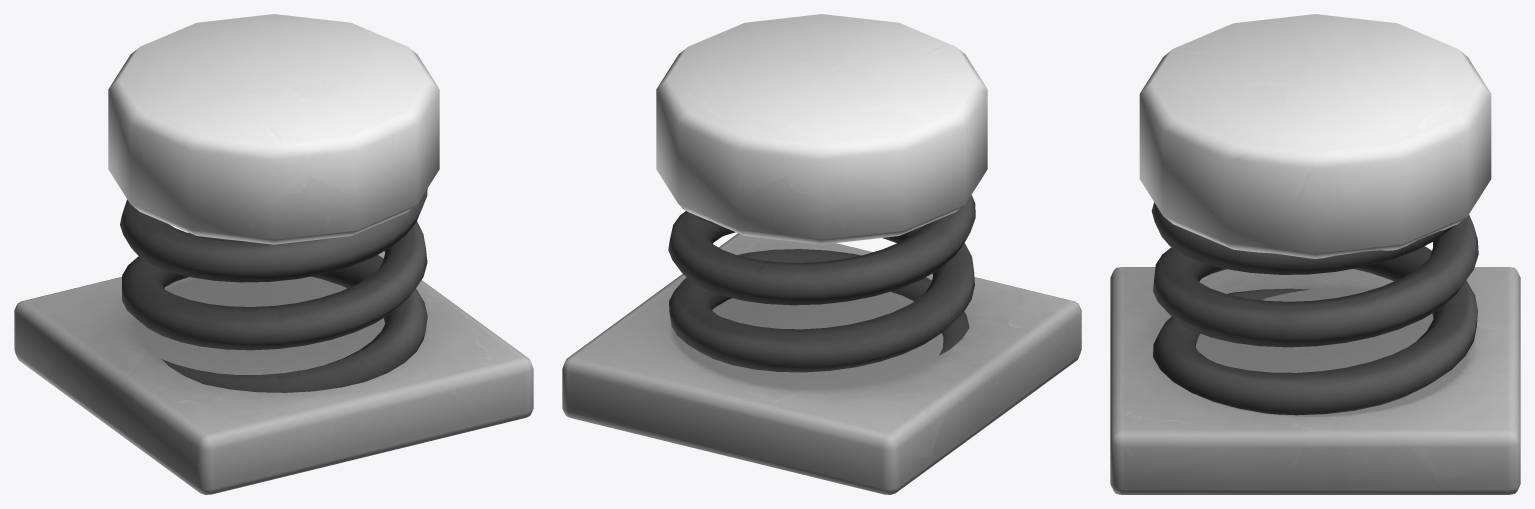
File: Controller_04.fbx
3 views of the same model, side by side, from view 1: azimuth 30°, elevation 25°; view 2: azimuth 150°, elevation 25°; view 3: azimuth 270°, elevation 25° (orthographic). The views are drawn at different scales.
Visible parts, largest first — view 1: Controller_04; view 2: Controller_04; view 3: Controller_04.
Boxes of the visible parts, left/top/right/bottom form: Controller_04: left=14, top=14, right=533, bottom=494; Controller_04: left=562, top=14, right=1081, bottom=494; Controller_04: left=1110, top=14, right=1520, bottom=494.
Size of the model in its own units: 1.75 by 1.55 by 1.75.
